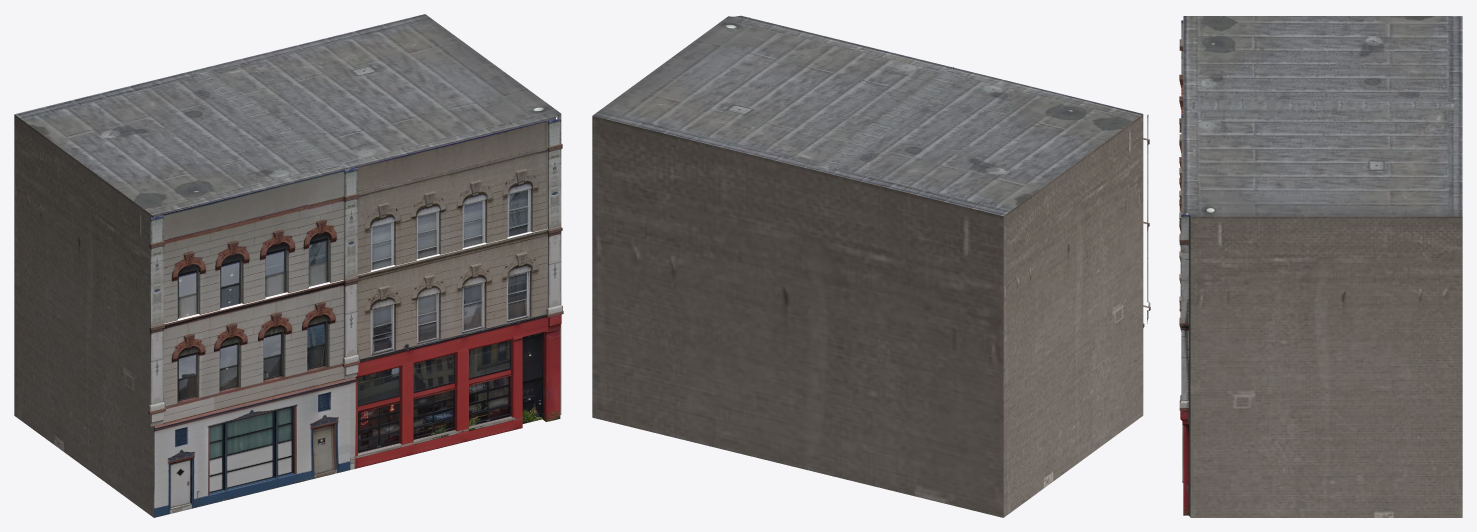
Rendered from chicago2.glb.
The picture shows the model from 3 angles, left to right: view 1: azimuth 30°, elevation 25°; view 2: azimuth 150°, elevation 25°; view 3: azimuth 270°, elevation 25°; orthographic projection.
Visible parts, largest first — view 1: chicago2; view 2: chicago2; view 3: chicago2.
Part boxes in pixels (bbox=[...]): chicago2: bbox=[14, 14, 563, 517]; chicago2: bbox=[592, 15, 1150, 517]; chicago2: bbox=[1179, 16, 1462, 517].
Bounding box in the file's own units: 89.72 × 62.03 × 52.87.
Materials: 1 (1 with a texture image).
